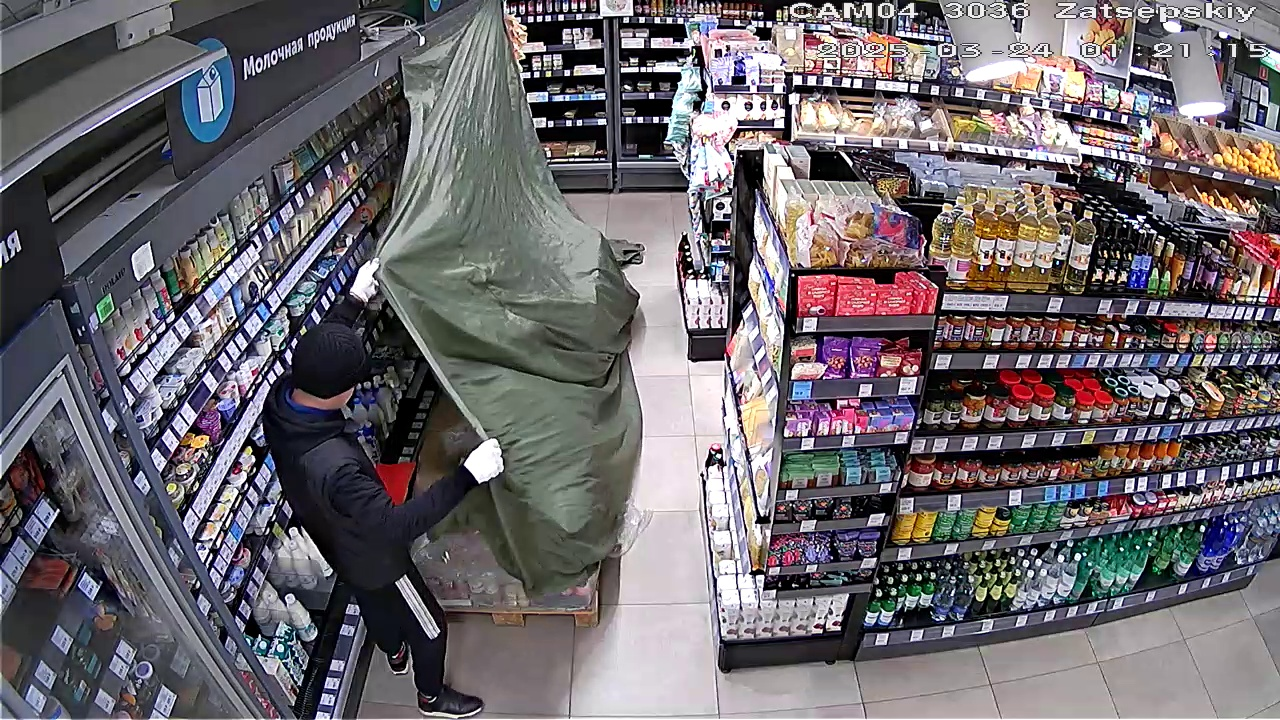Human: (251, 310, 447, 696)
dome: (371, 20, 640, 569)
